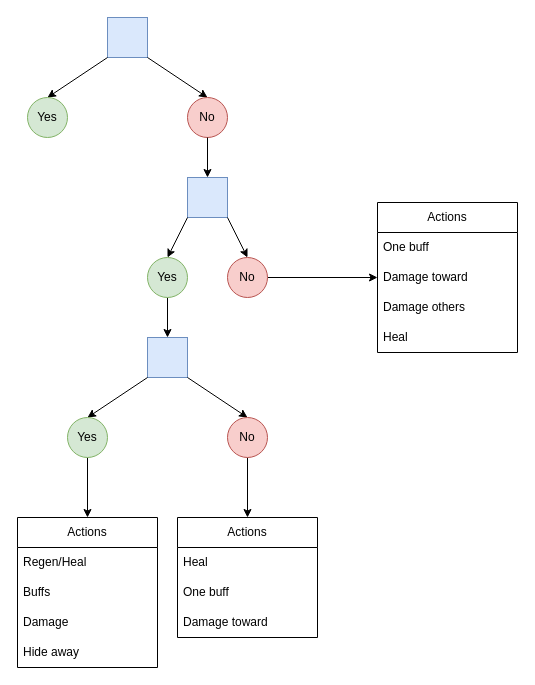
This 535x685 diagram has some shape labels left out. The centre of each missing label's shape, as x and y in pixels:
"Can be killed?" goes at pixel 167 357.
"Can kill ?" goes at pixel 127 37.
"Low life ?" goes at pixel 207 197.
